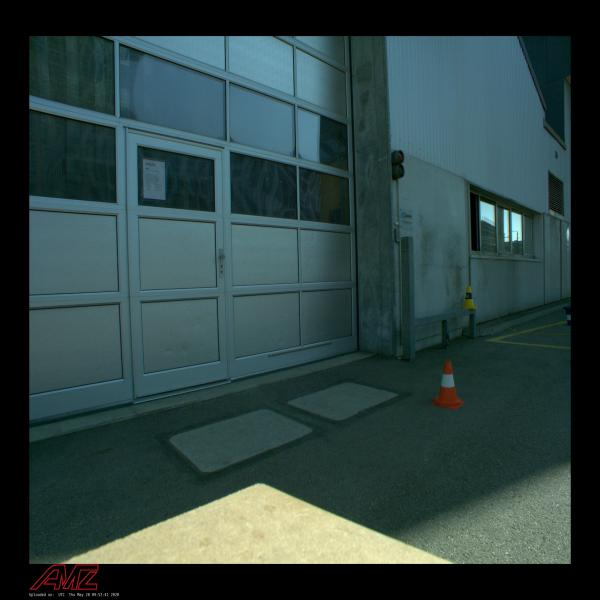blue_cone: (563, 306, 571, 326)
orange_cone: (430, 360, 464, 410)
yellow_cone: (461, 286, 477, 309)
